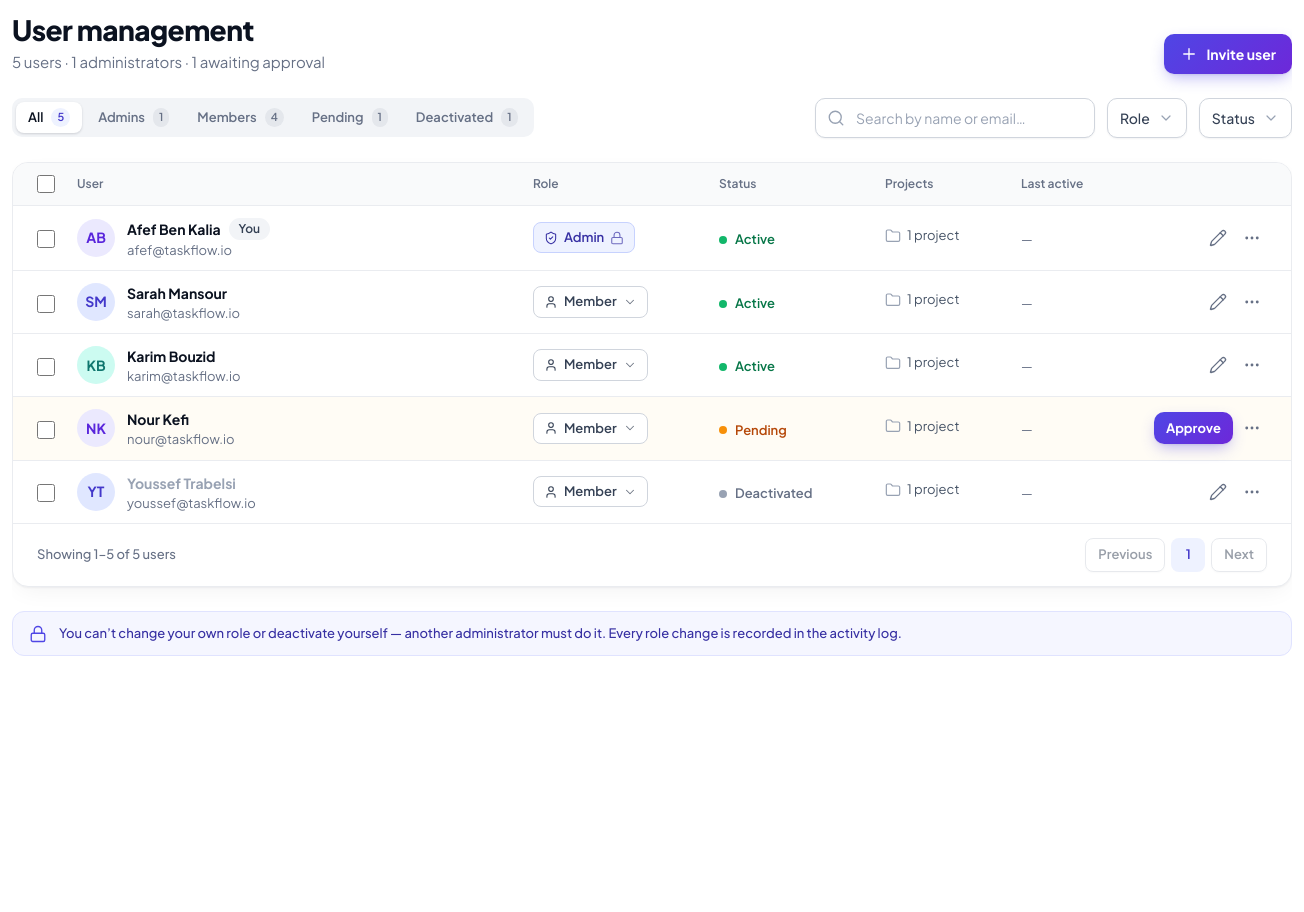
Users › selection › only offers the actions that apply, with how many users each affects
The image size is (1304, 912).
Expected: the text "Karim Bouzid" is shown, [127,346,216,366]
What coordinates should you click on to do the following:
click the checkbox named "Select all users on this page"
I would click on:
 (46, 184)
Its box is [37,174,55,192].
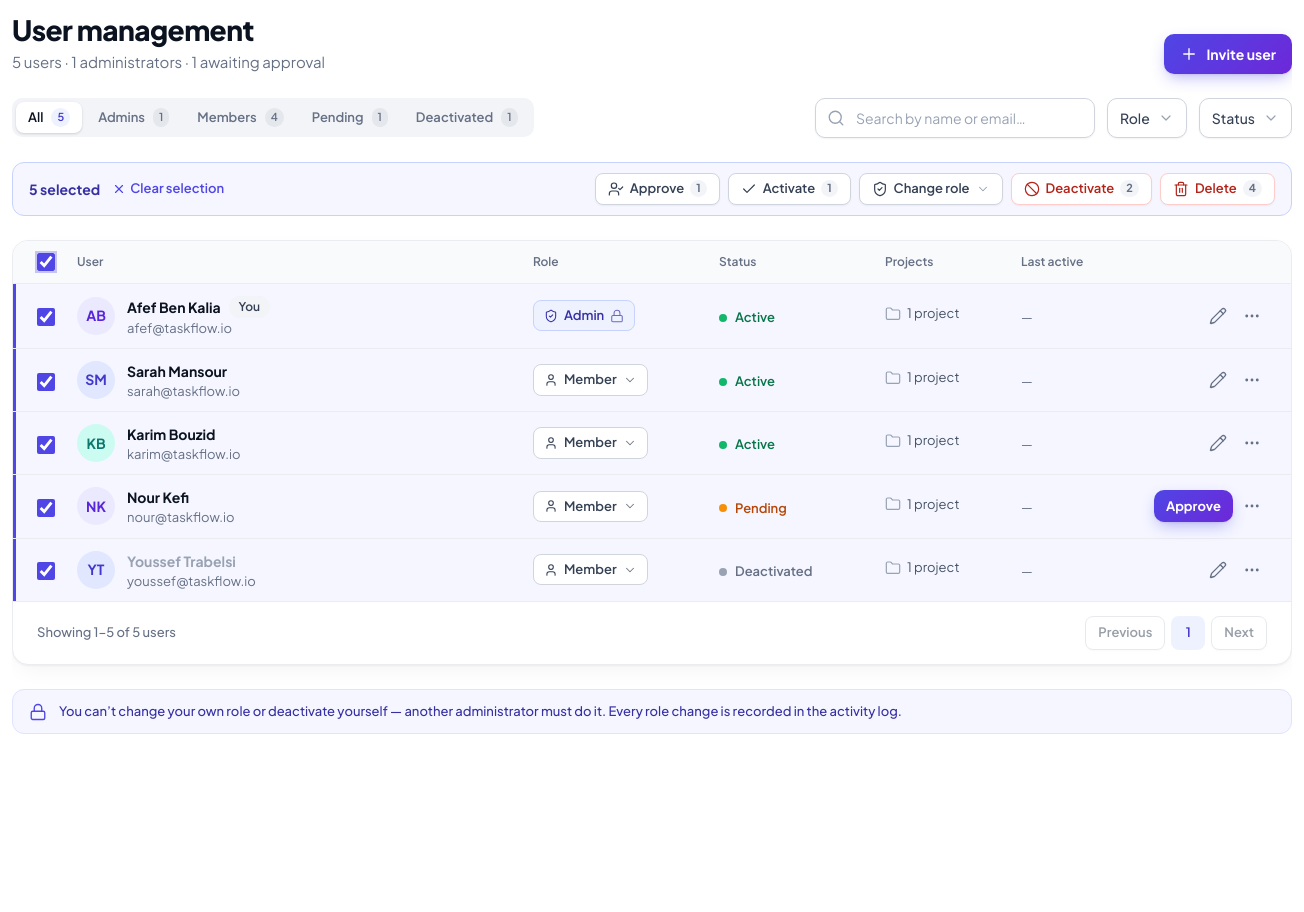
Expected: the button "Approve 1" is shown, [595,172,720,204]
Expected: the button "Activate 1" is shown, [728,172,851,204]
Expected: the button "Deactivate 2" is shown, [1011,172,1152,204]
